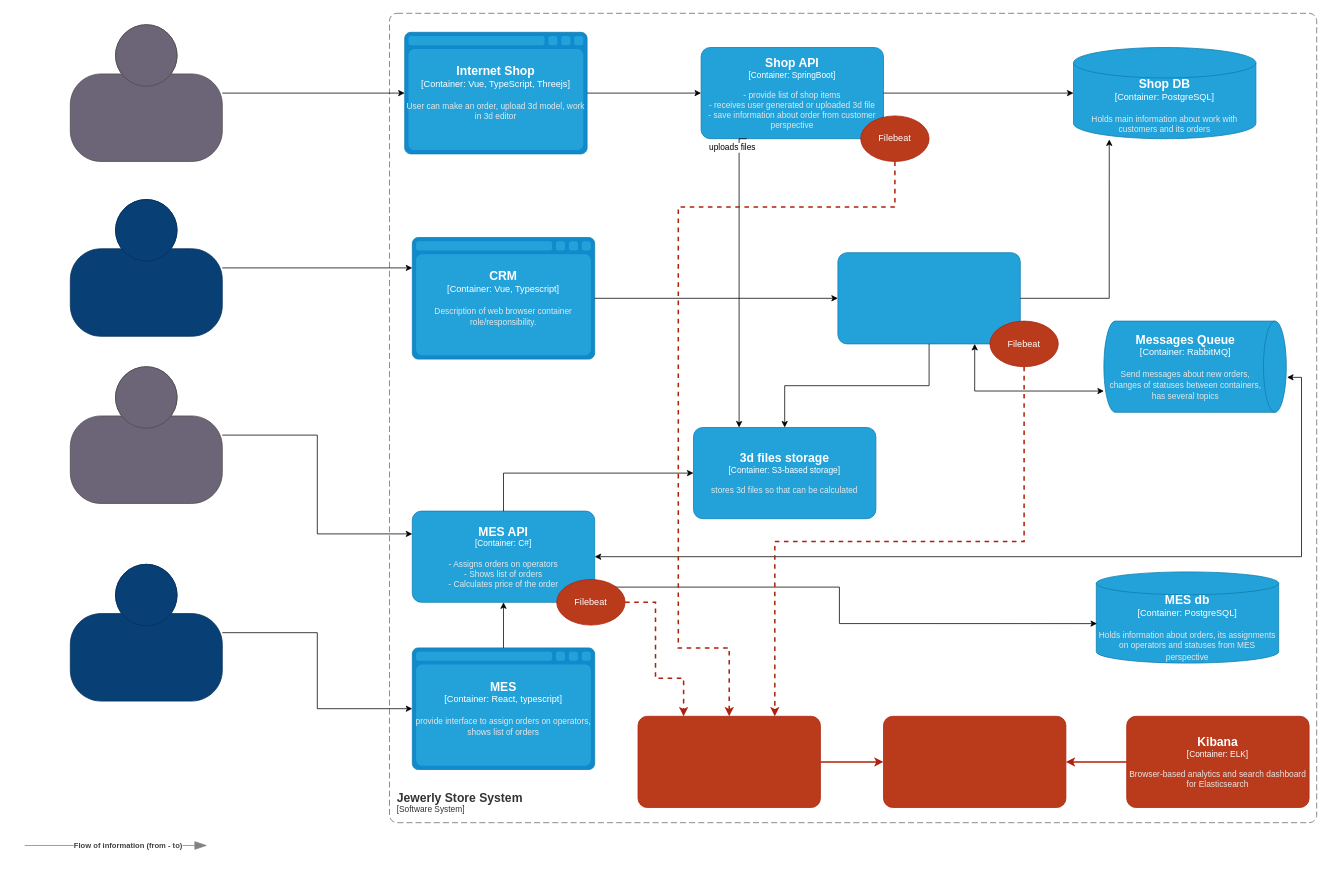
This 1330x871 diagram has some shape labels left out. Each missing label, with the box of its shape:
API user [Person] Description of external person.: (70, 366, 222, 504)
CRM API [Container: SpringBoot] Description of container role/responsibility.: (837, 252, 1020, 344)
Customer [Person] Description of external person.: (70, 24, 222, 162)
Elasticsearch [Container: ELK] Distributed search and analytics engine: (883, 716, 1066, 808)
Logstash [Container: ELK] Server-side data processing pipeline: (637, 716, 820, 808)
Operator [Person] Takes order in work, manufactures jewerly: (70, 564, 222, 701)
Seller [Person] Operates with order, confirms manufacturing for the user: (70, 199, 222, 336)
